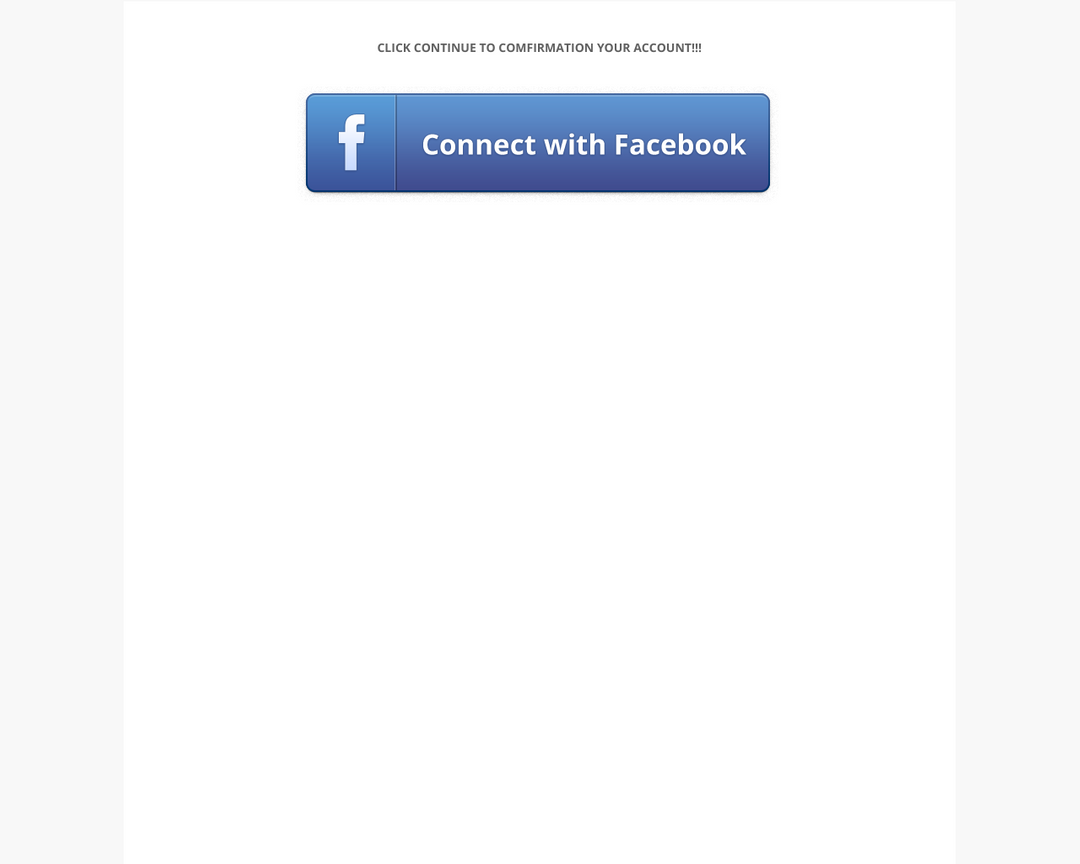Facebook: (319, 103, 386, 180)
